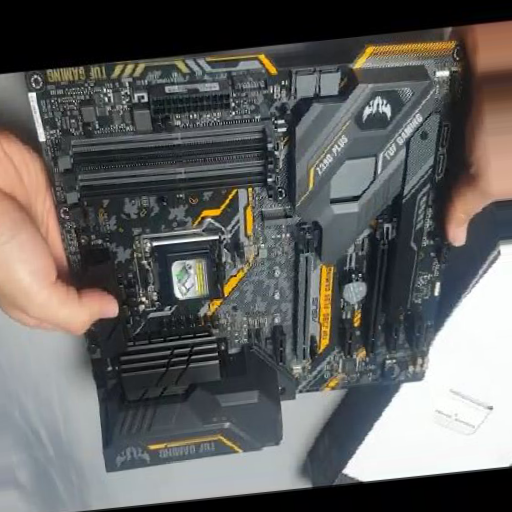CPU: (135, 231, 233, 311)
GPU: (364, 219, 397, 356), (293, 224, 313, 370)
MOTHERBOARD: (24, 42, 467, 393)
RAM: (57, 118, 283, 207)
SSD: (260, 206, 296, 226)
